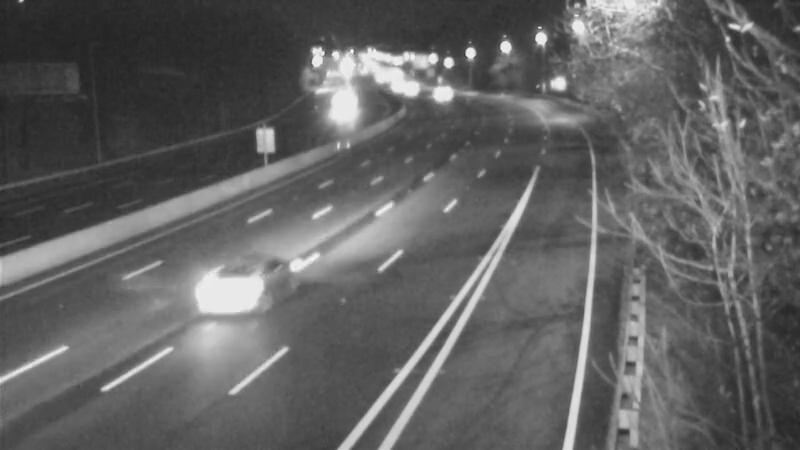vehicle: (192, 254, 272, 334), (384, 63, 434, 113), (418, 70, 468, 120), (311, 79, 361, 129)
